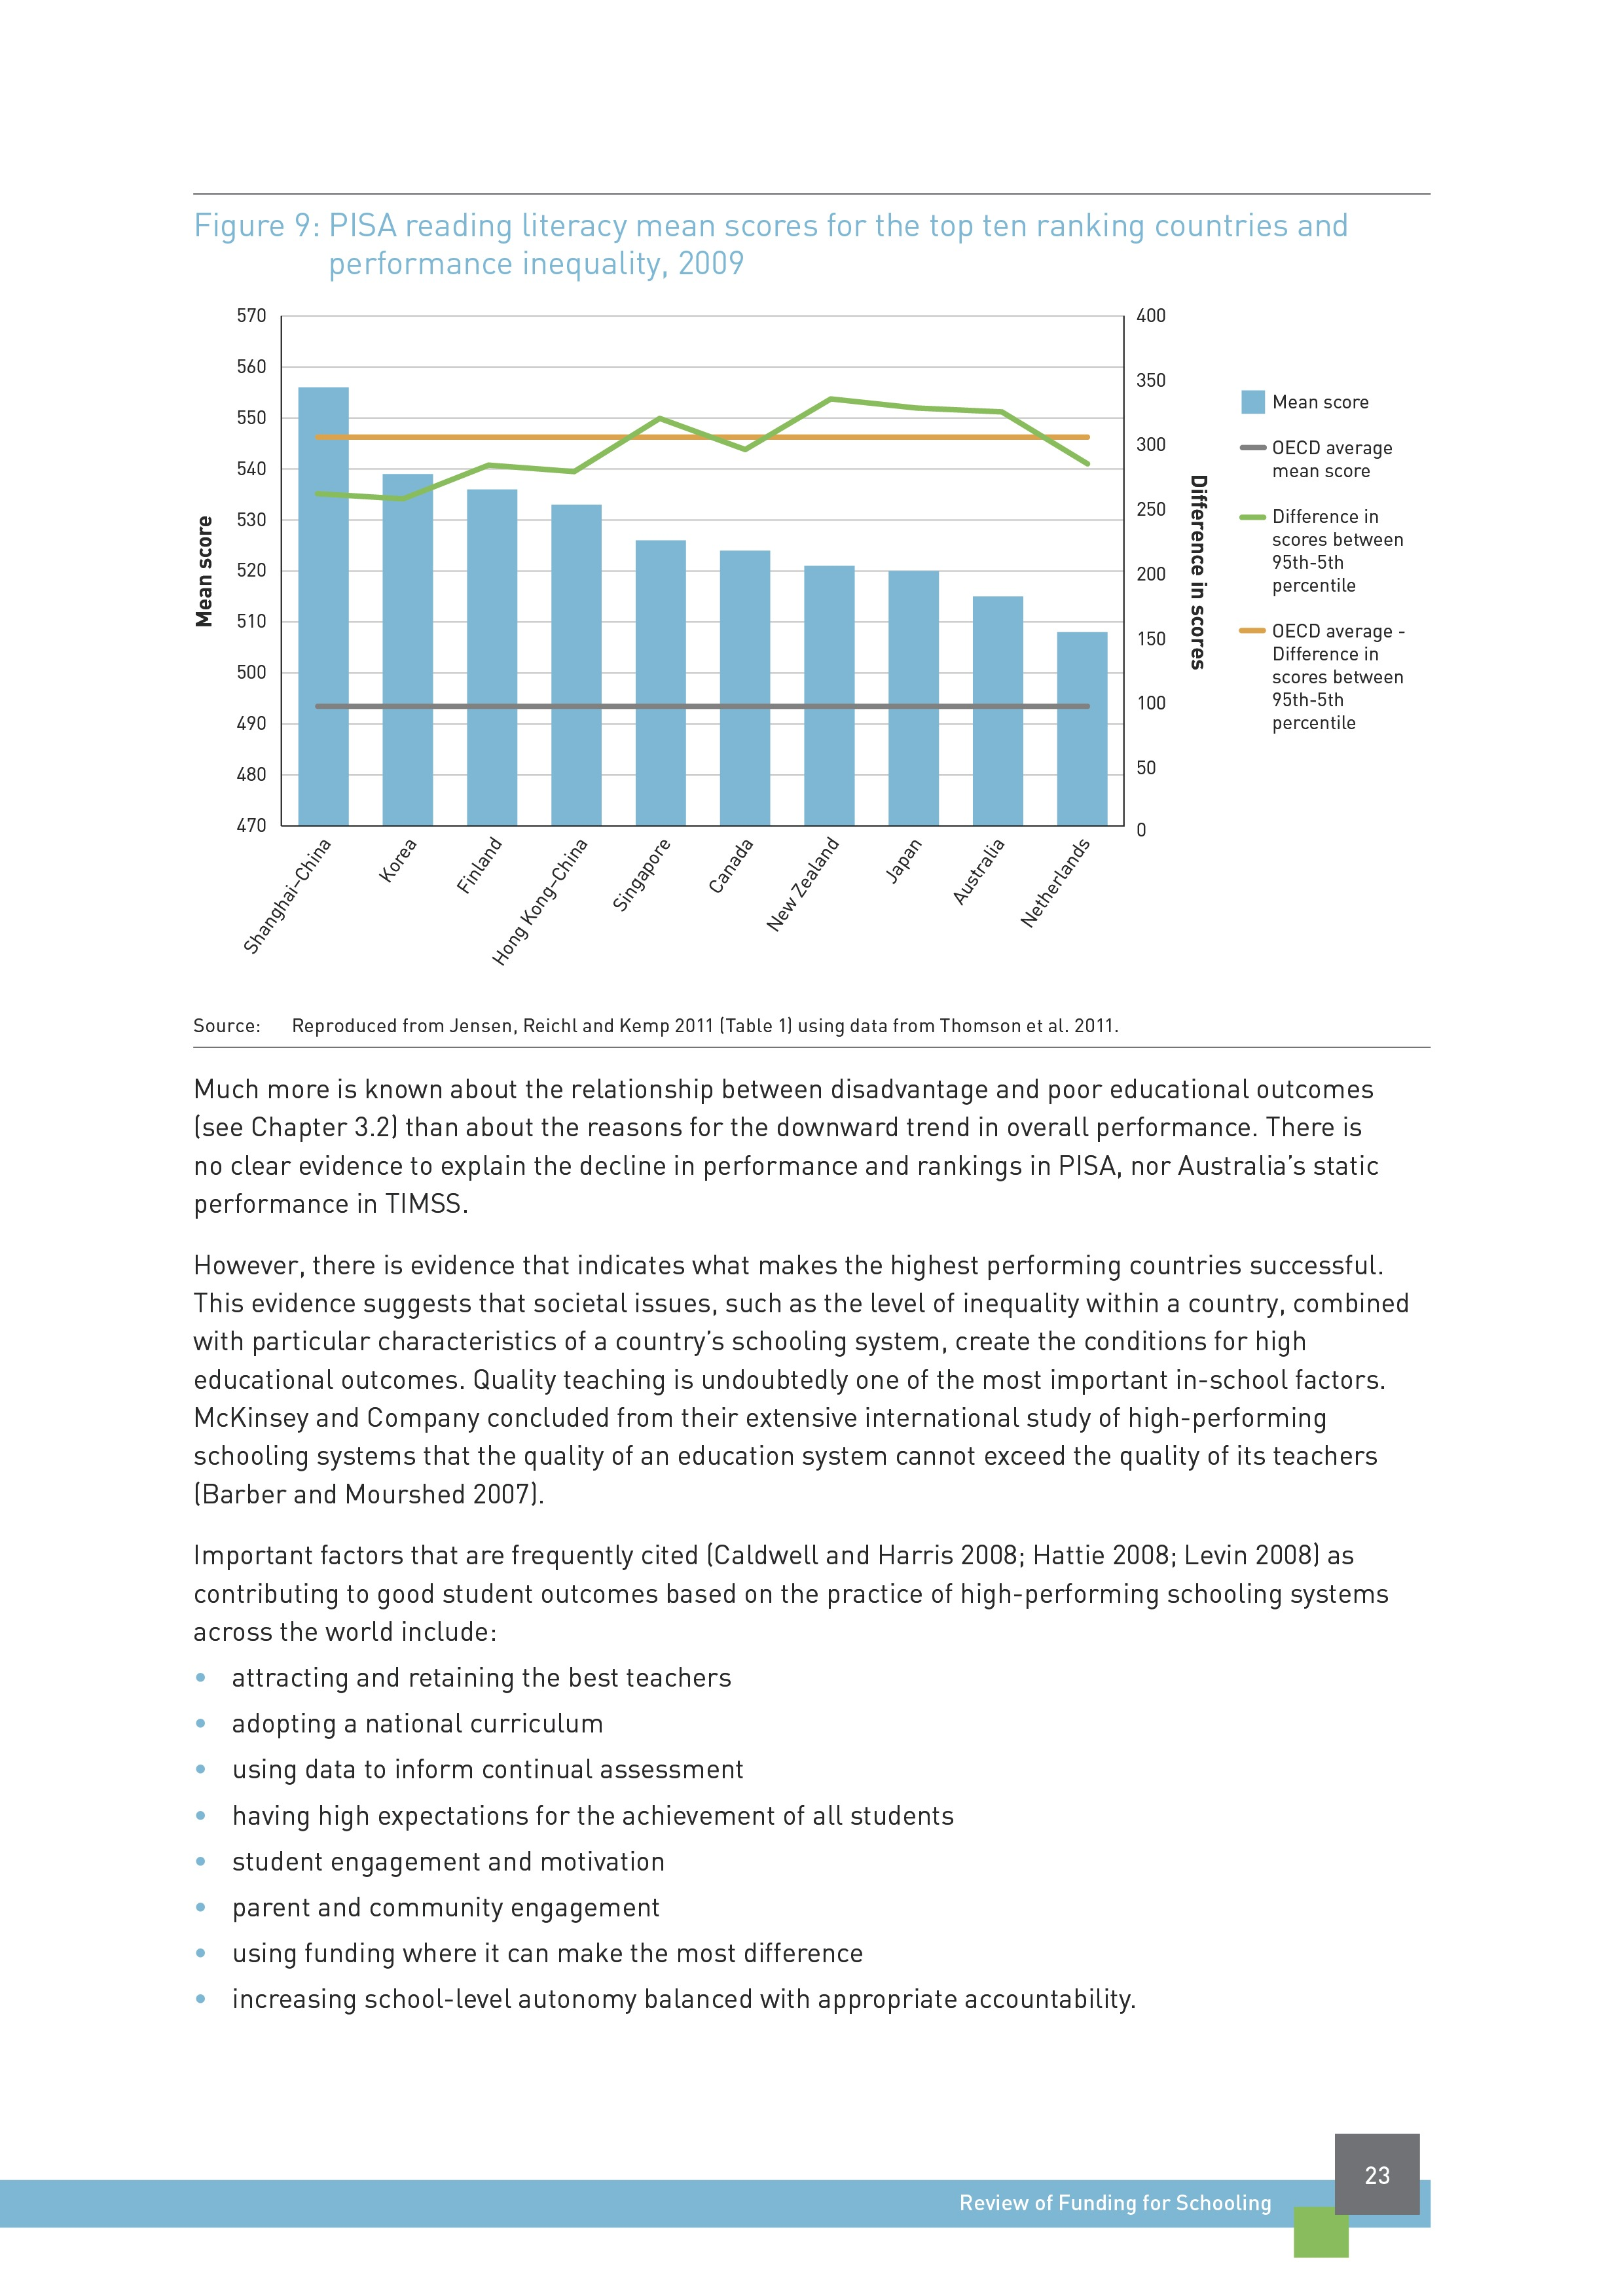caption: (191, 198, 1345, 277)
figure: (202, 277, 1435, 962)
list: (167, 1664, 1147, 2022)
text: (170, 1253, 1421, 1552), (177, 1073, 1393, 1232), (167, 1552, 1407, 1650)
